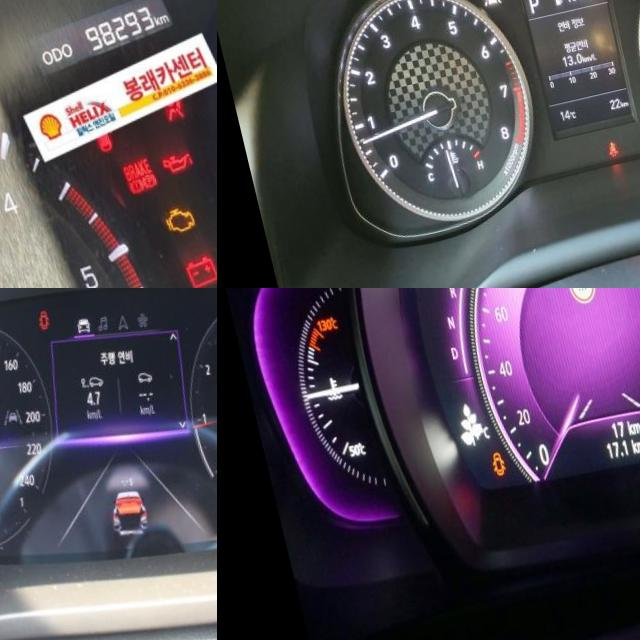Doors: (470, 460, 487, 487), (23, 318, 40, 342)
LaneCenteringOff: (471, 2, 491, 19)
